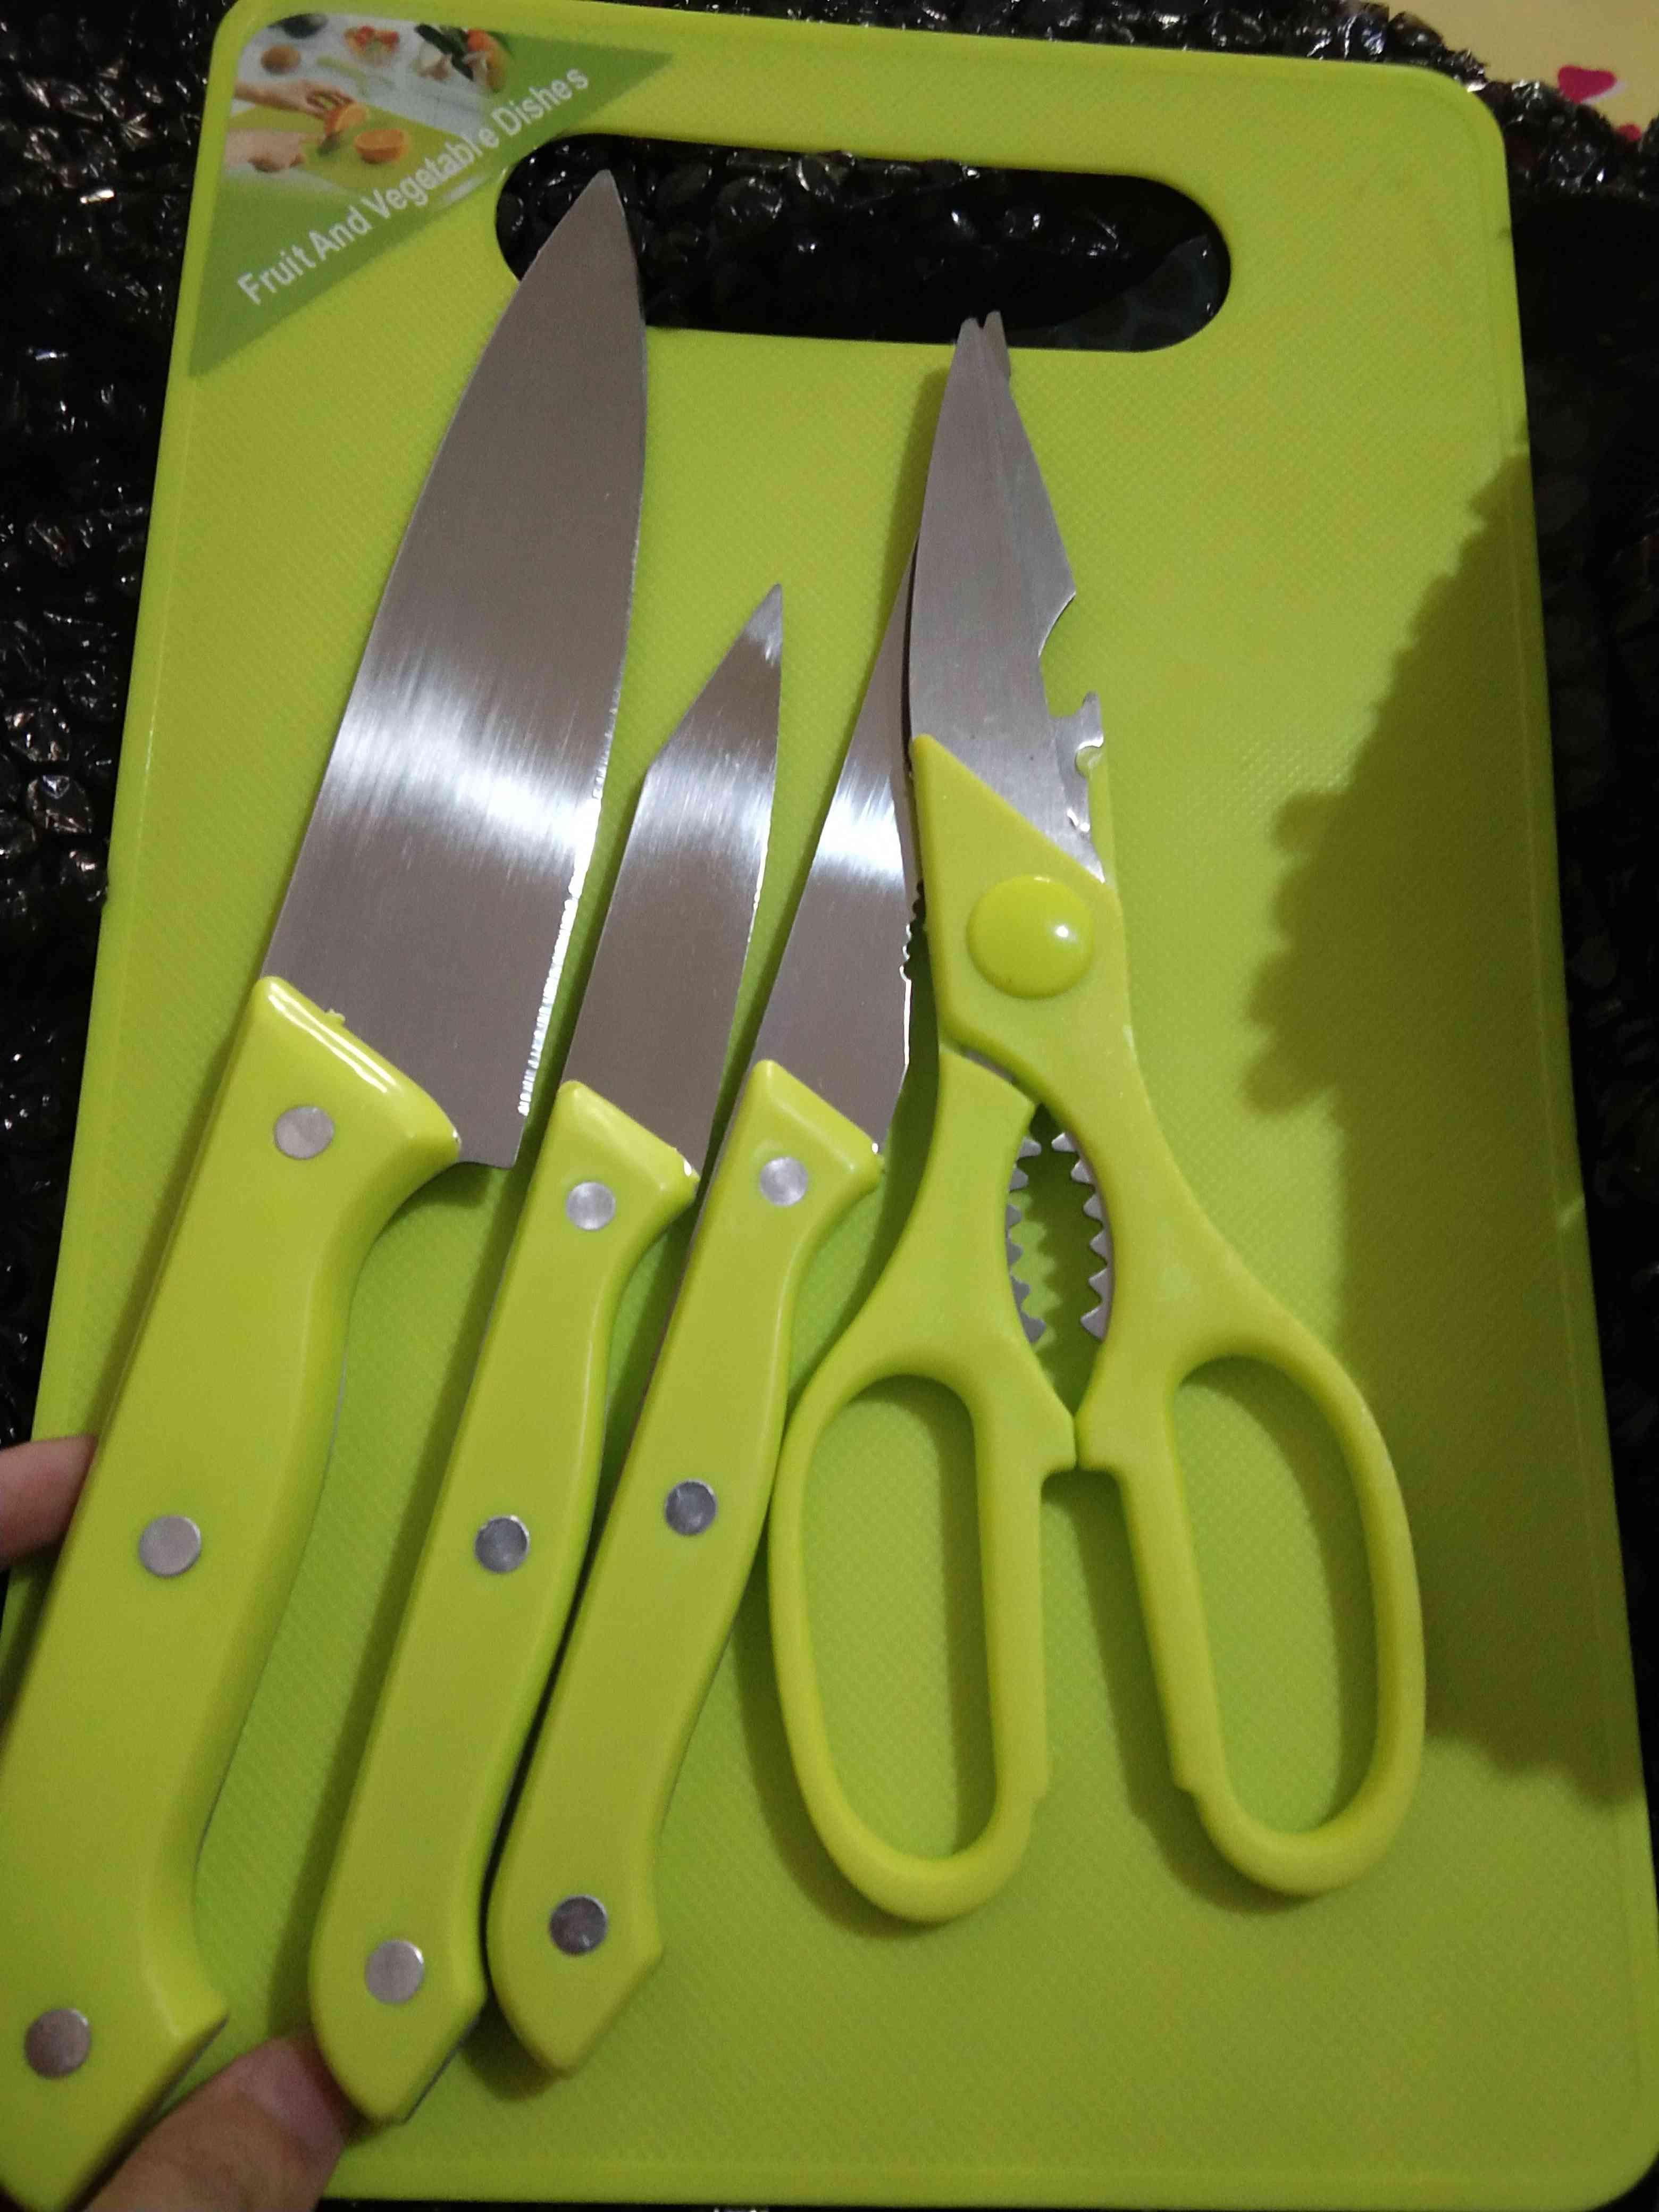faca: (0, 178, 648, 2212), (310, 585, 782, 2116), (491, 610, 915, 2073)
tesoura: (772, 329, 1425, 1923)
